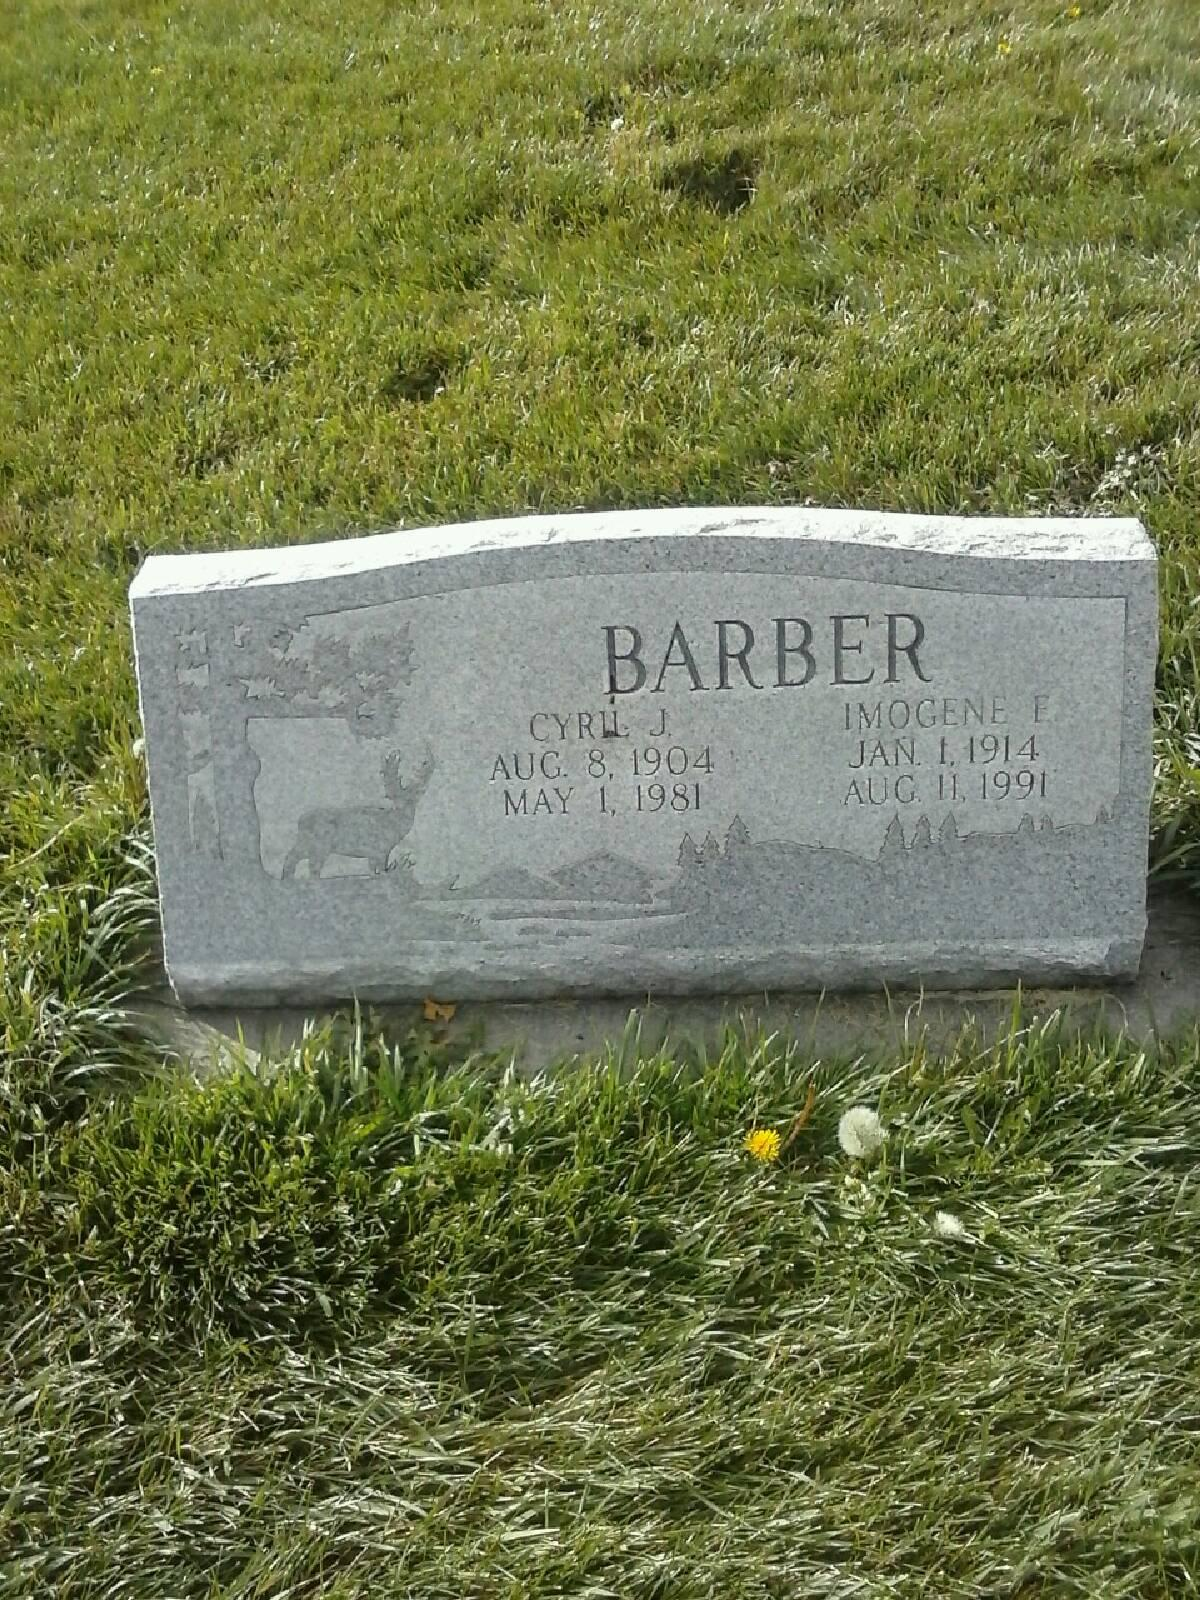upright: (112, 501, 1179, 991)
